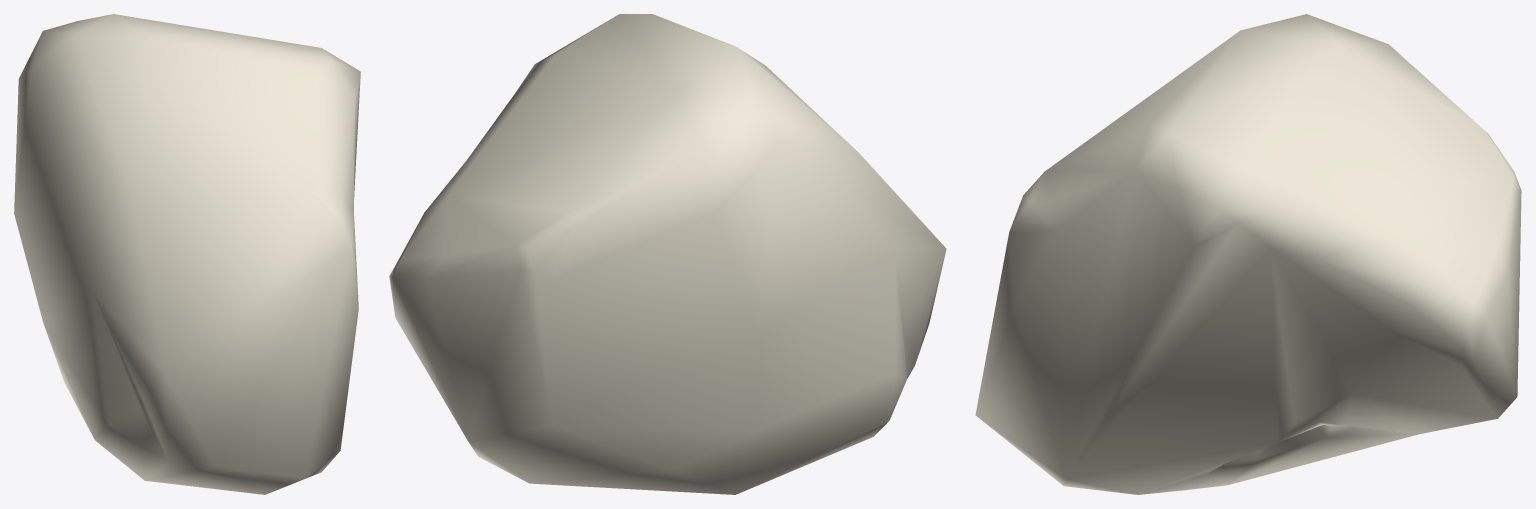
3 renders of one model, left to right at view 1: azimuth 30°, elevation 25°; view 2: azimuth 150°, elevation 25°; view 3: azimuth 270°, elevation 25°, orthographic. The views are drawn at different scales.
Visible parts, largest first — view 1: ZA_e3caca12db6f5e62; view 2: ZA_e3caca12db6f5e62; view 3: ZA_e3caca12db6f5e62.
Part boxes in pixels (x1,y1,x2,y2): ZA_e3caca12db6f5e62: [14, 14, 360, 494]; ZA_e3caca12db6f5e62: [389, 14, 946, 494]; ZA_e3caca12db6f5e62: [975, 14, 1521, 494].
Bounding box in the file's own units: 0.0111 × 0.0143 × 0.0159.
